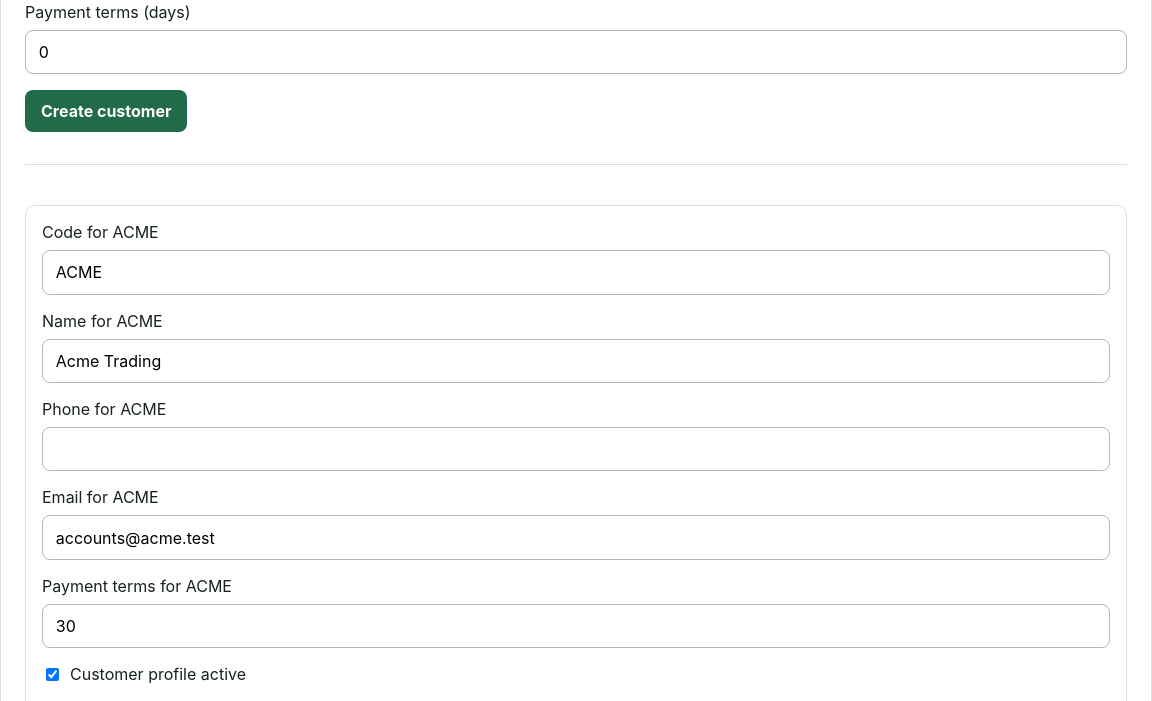
retains an edited customer draft after failure and clears it after confirmation
(page scrolled)
Replace the text in the field labelled "Name for ACME" with "Acme Updated" at (576, 361), box x1=42 y1=339 x2=1110 y2=383
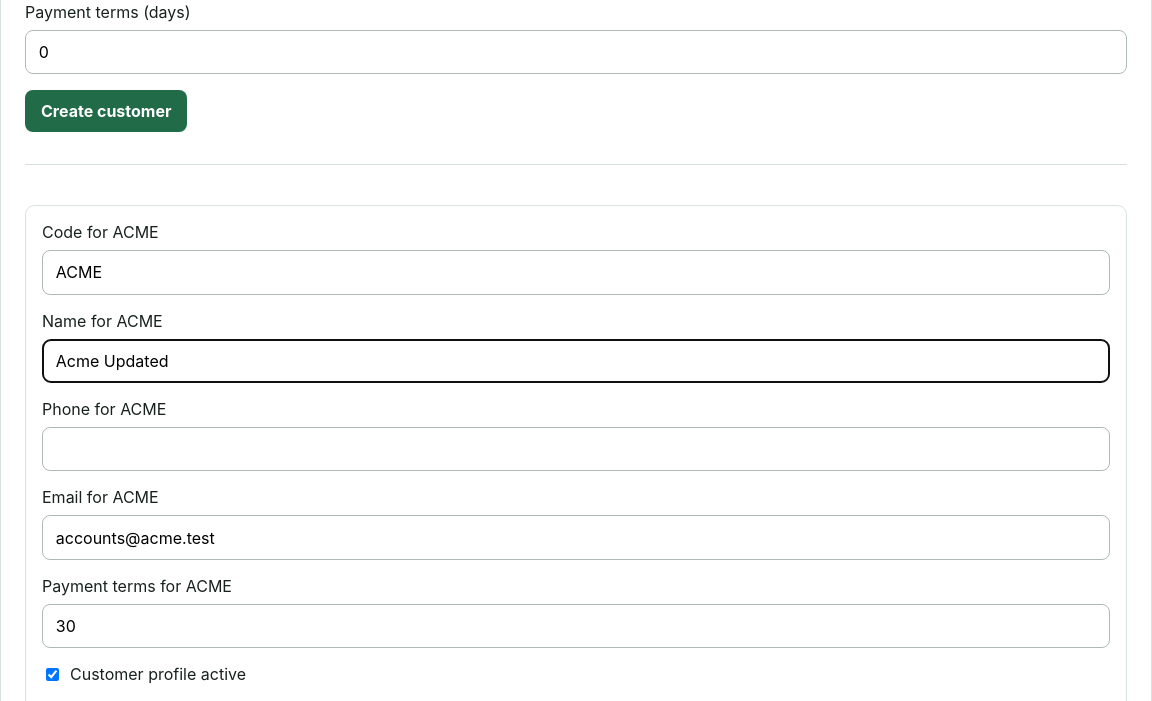
Replace the text in the number field labelled "Payment terms for ACME" with "45" at (576, 626), box x1=42 y1=604 x2=1110 y2=648
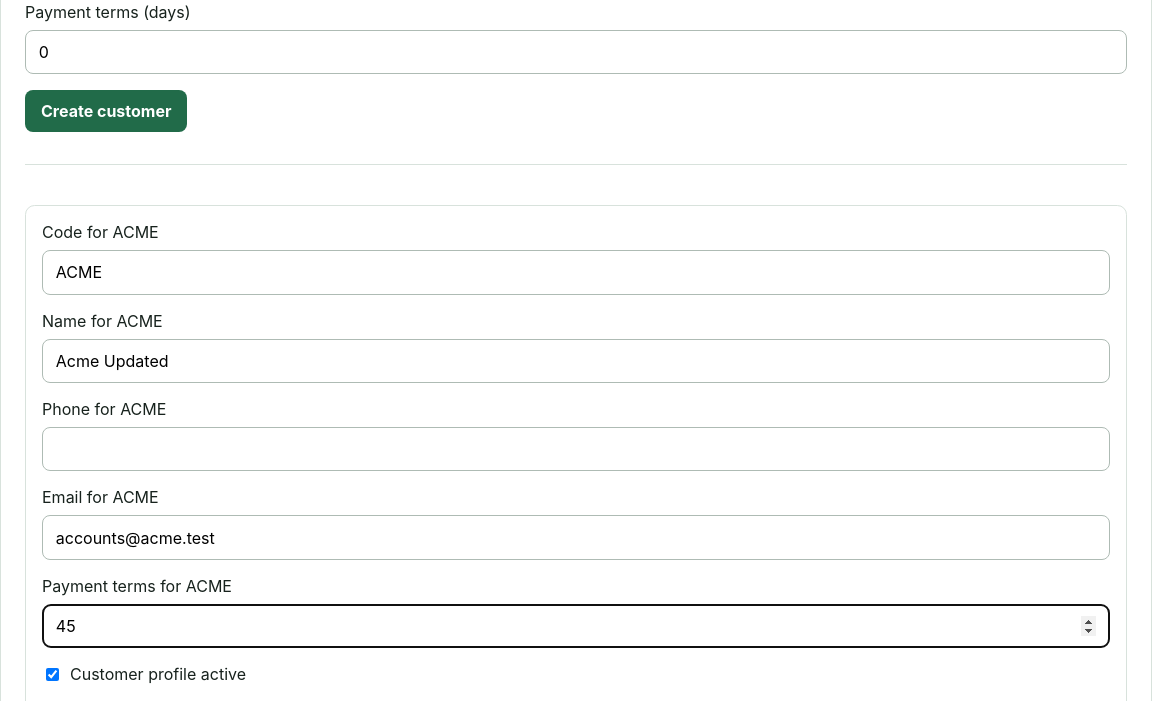
Click the checkbox labelled "Customer profile active" at (52, 674), box x1=46 y1=668 x2=59 y2=681
(page scrolled)
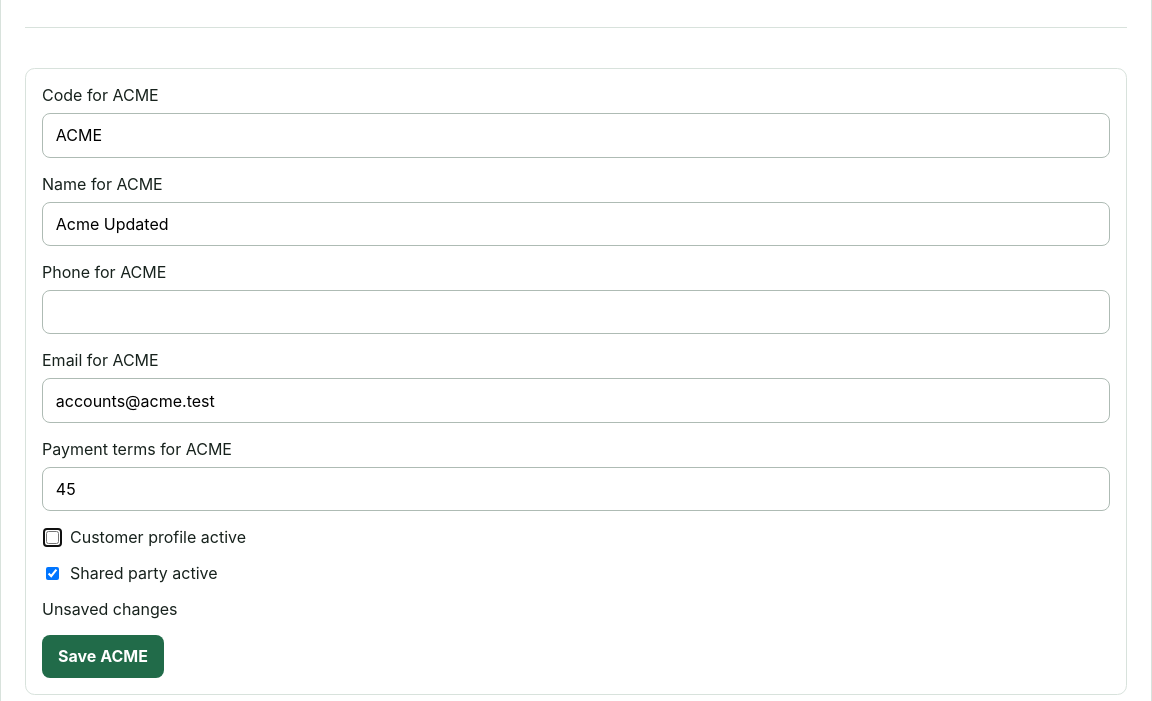
Expected: the text "Unsaved changes" is shown, x1=42 y1=599 x2=178 y2=619
Click the button "Save ACME" at (103, 656), box x1=42 y1=635 x2=164 y2=678
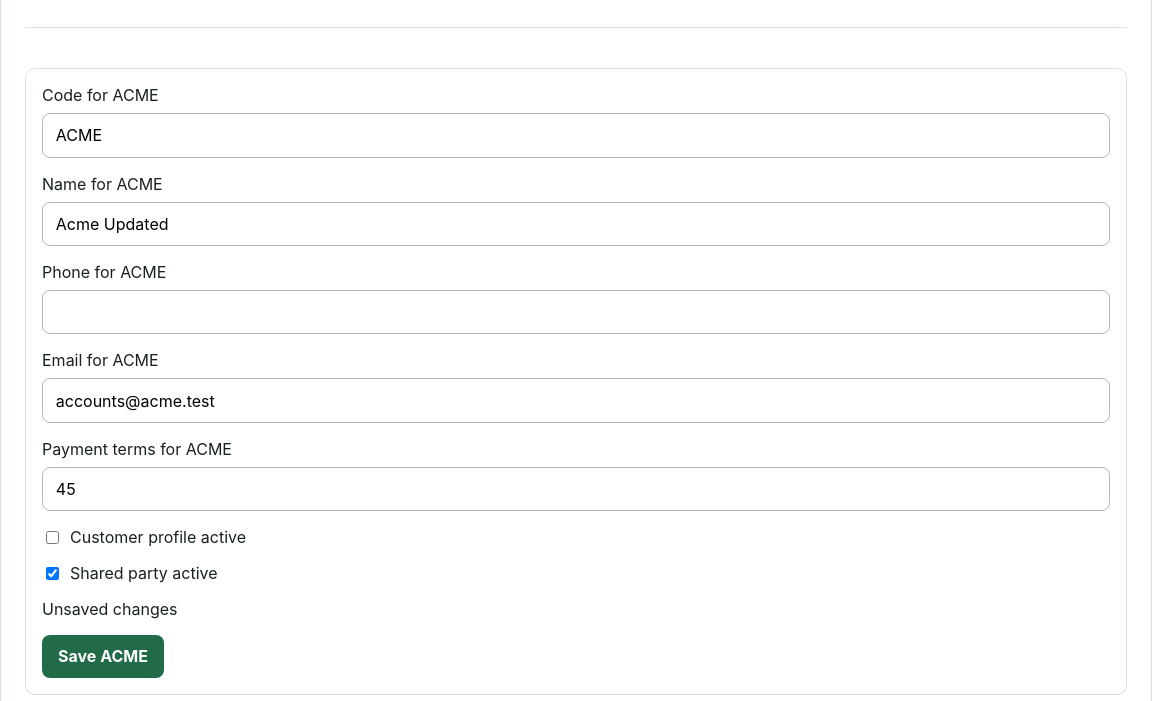
Expected: the text "Unsaved changes" is shown, x1=42 y1=599 x2=178 y2=619
Click the button "Save ACME" at (103, 656), box x1=42 y1=635 x2=164 y2=678
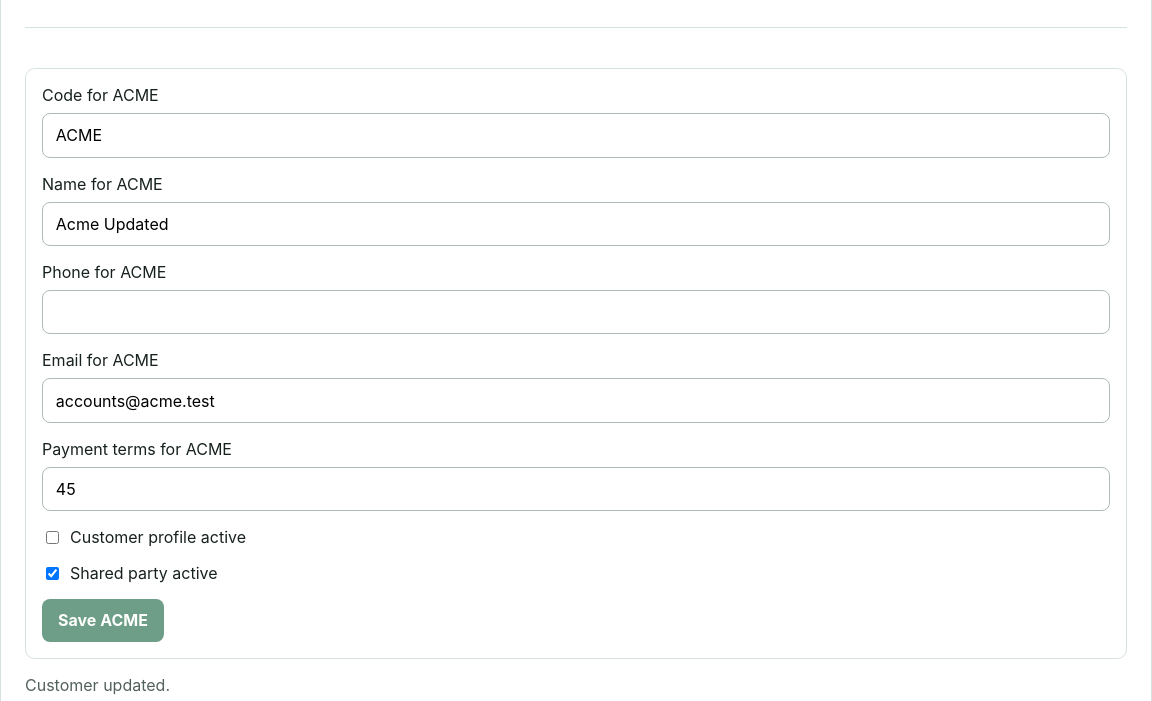
Expected: the text "Customer updated." is shown, x1=25 y1=674 x2=170 y2=694
Expected: the text "Unsaved changes" is gone
